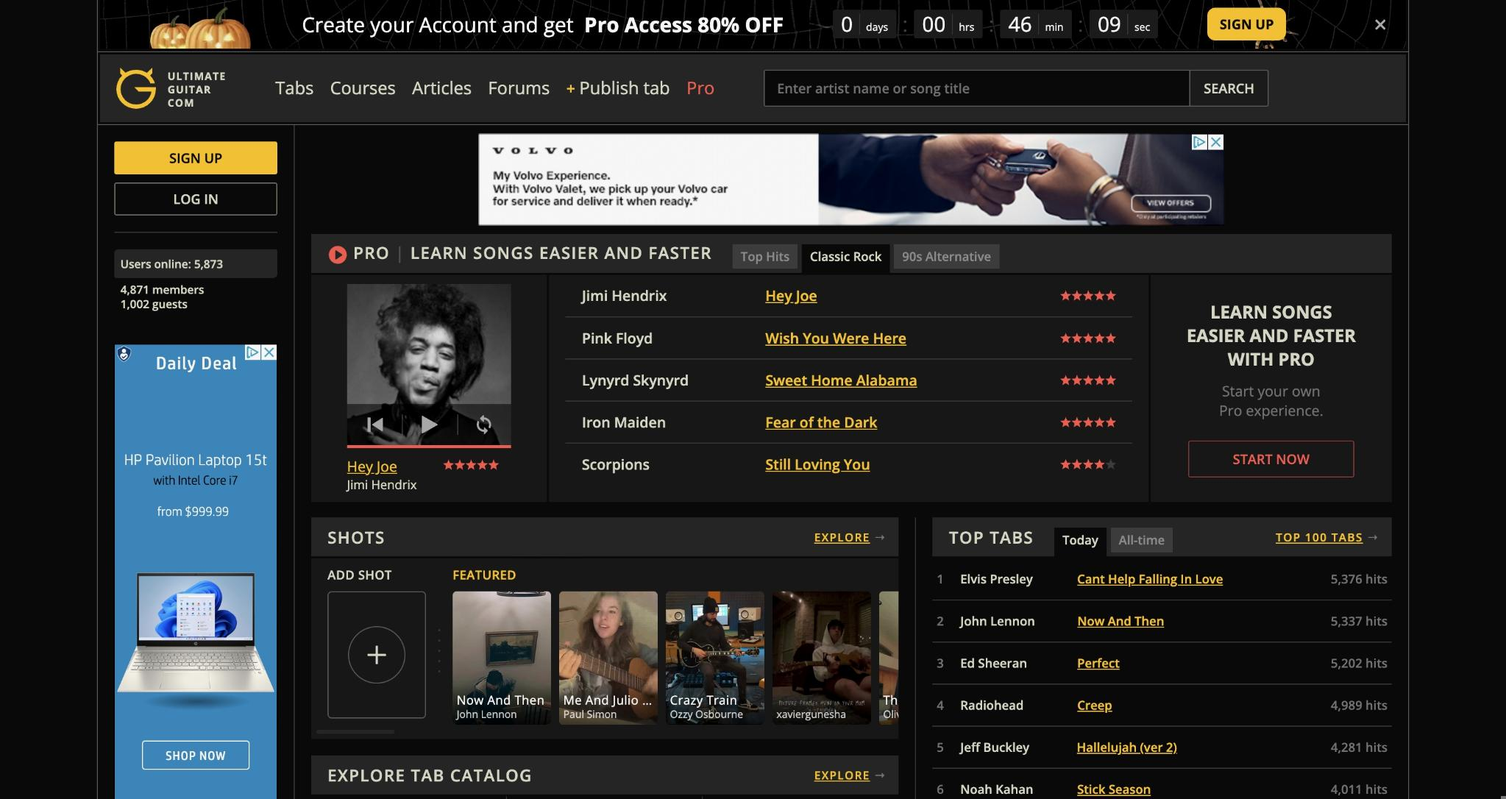webelement: (113, 343, 277, 799), (478, 133, 1224, 225), (97, 0, 1408, 51), (347, 283, 511, 447), (763, 69, 1189, 106), (453, 590, 551, 723), (666, 590, 764, 723), (773, 590, 871, 723), (986, 590, 1084, 723), (1093, 590, 1191, 723), (1306, 590, 1404, 723), (560, 590, 657, 723), (880, 590, 977, 723), (1200, 590, 1297, 723), (328, 590, 426, 717), (1413, 589, 1506, 722), (301, 9, 582, 38), (354, 241, 712, 263), (347, 404, 511, 444), (1188, 439, 1353, 476), (347, 455, 511, 492), (584, 9, 783, 38), (114, 141, 277, 173), (114, 182, 277, 214), (116, 67, 225, 108), (765, 369, 917, 388), (1189, 69, 1267, 106), (765, 327, 906, 347), (1208, 7, 1286, 40), (894, 243, 999, 267), (1077, 570, 1222, 587), (167, 69, 225, 109), (579, 75, 669, 99), (766, 411, 877, 430), (802, 243, 889, 267), (582, 369, 688, 388), (765, 453, 870, 472), (582, 285, 666, 305), (1229, 448, 1314, 467), (1076, 738, 1176, 754), (582, 411, 666, 430), (329, 75, 395, 99), (732, 243, 798, 267), (1110, 527, 1172, 551), (1077, 612, 1164, 629), (487, 75, 548, 99), (582, 327, 653, 347), (411, 75, 470, 99), (1275, 528, 1366, 543), (581, 453, 649, 472), (960, 612, 1035, 629), (960, 570, 1032, 587), (1077, 780, 1151, 796), (1216, 14, 1278, 33), (960, 780, 1032, 796), (960, 654, 1026, 671), (960, 738, 1029, 754), (1199, 78, 1257, 97), (164, 148, 225, 166), (960, 696, 1023, 713), (766, 285, 818, 305), (1366, 7, 1396, 40), (168, 189, 221, 207), (814, 528, 874, 543), (275, 75, 312, 99), (814, 767, 874, 781), (1077, 654, 1119, 671), (687, 75, 714, 99), (1077, 696, 1112, 713), (565, 76, 578, 97), (394, 241, 404, 263), (874, 528, 886, 543), (1366, 528, 1378, 543), (874, 767, 886, 781)
